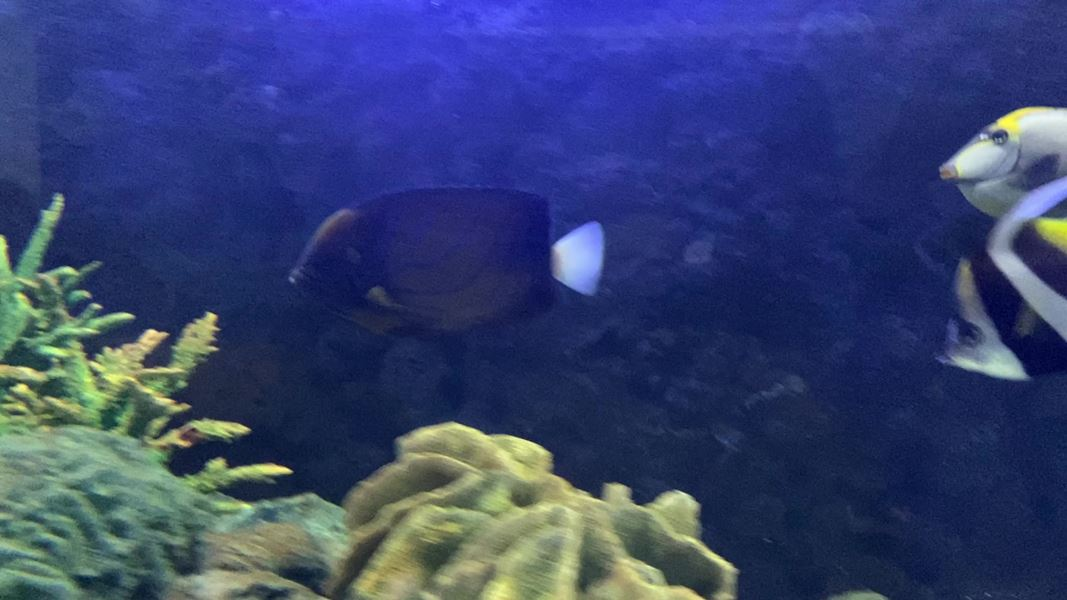Blue ring angelfish: (273, 177, 634, 359)
